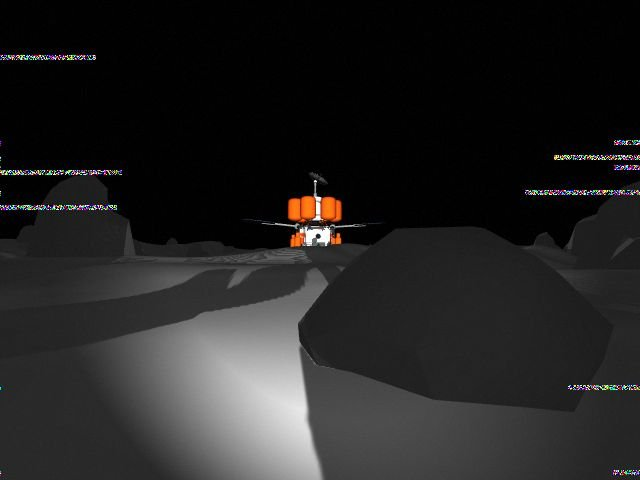homebase: (242, 169, 384, 254)
